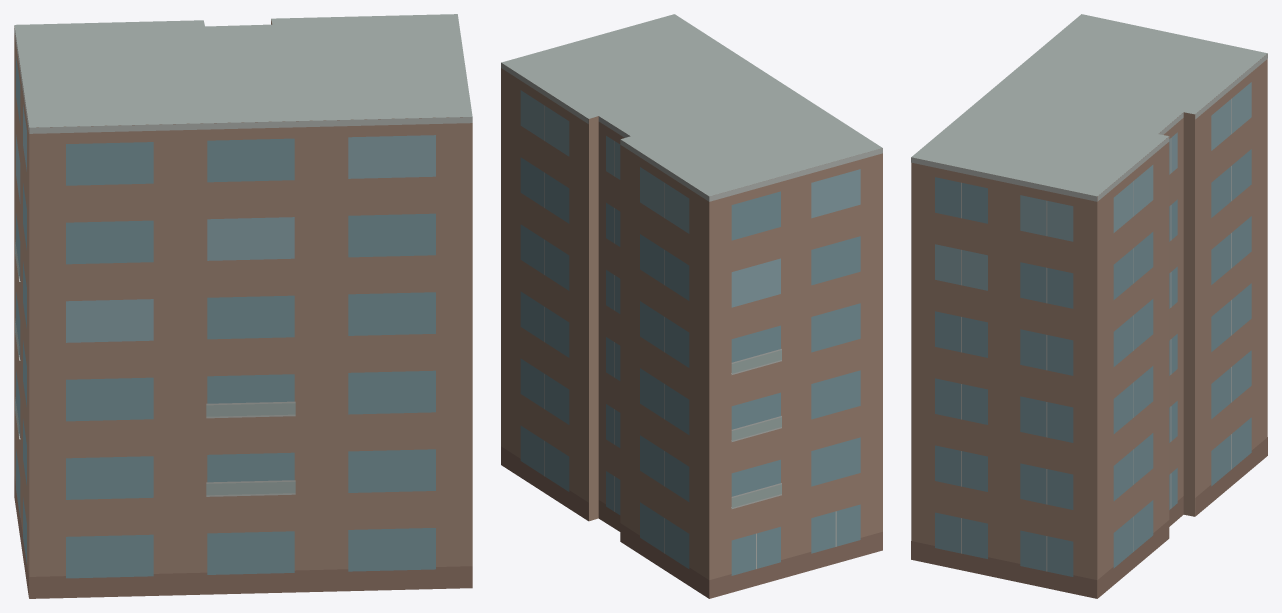
The model's file is survey-upis-32963723.glb.
The picture shows the model from 3 angles, left to right: view 1: azimuth 30°, elevation 25°; view 2: azimuth 150°, elevation 25°; view 3: azimuth 270°, elevation 25°; orthographic projection. The views are drawn at different scales.
Parts seen in each view (by area): view 1: survey-upis-32963723.tmp; view 2: survey-upis-32963723.tmp; view 3: survey-upis-32963723.tmp.
Boxes of the visible parts, box(x1,y1,x2,y2) form: survey-upis-32963723.tmp: box(14, 14, 472, 598); survey-upis-32963723.tmp: box(501, 14, 882, 598); survey-upis-32963723.tmp: box(911, 14, 1267, 598).
Size of the model in its own units: 17.8 by 18.3 by 14.71.
